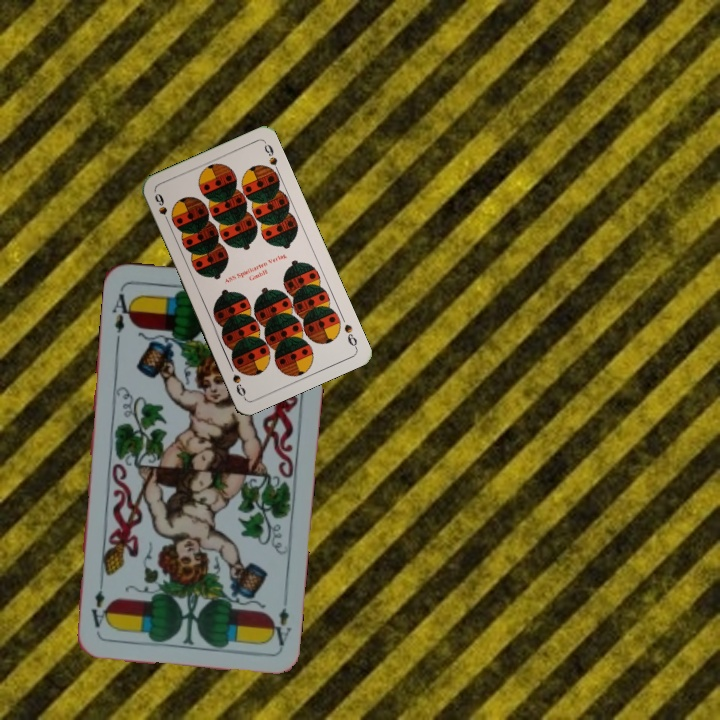EA: (108, 290, 136, 344), (266, 604, 294, 648)
S9: (151, 189, 173, 227), (340, 320, 360, 351)
